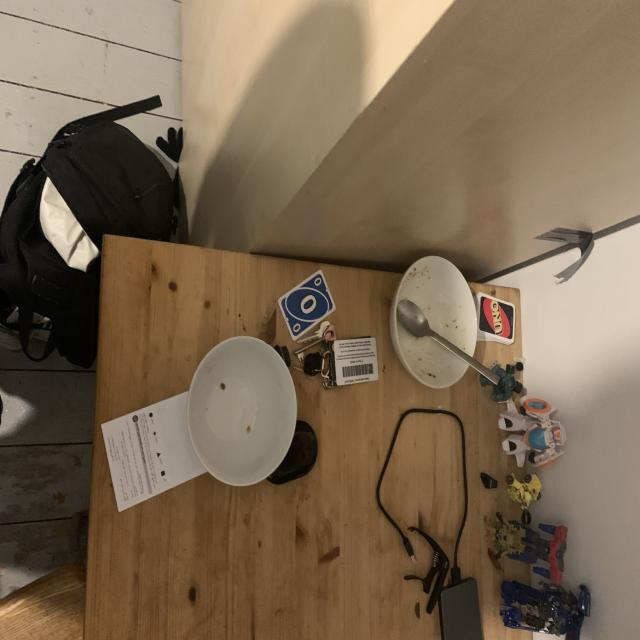lblue-0: (312, 276, 324, 288)
